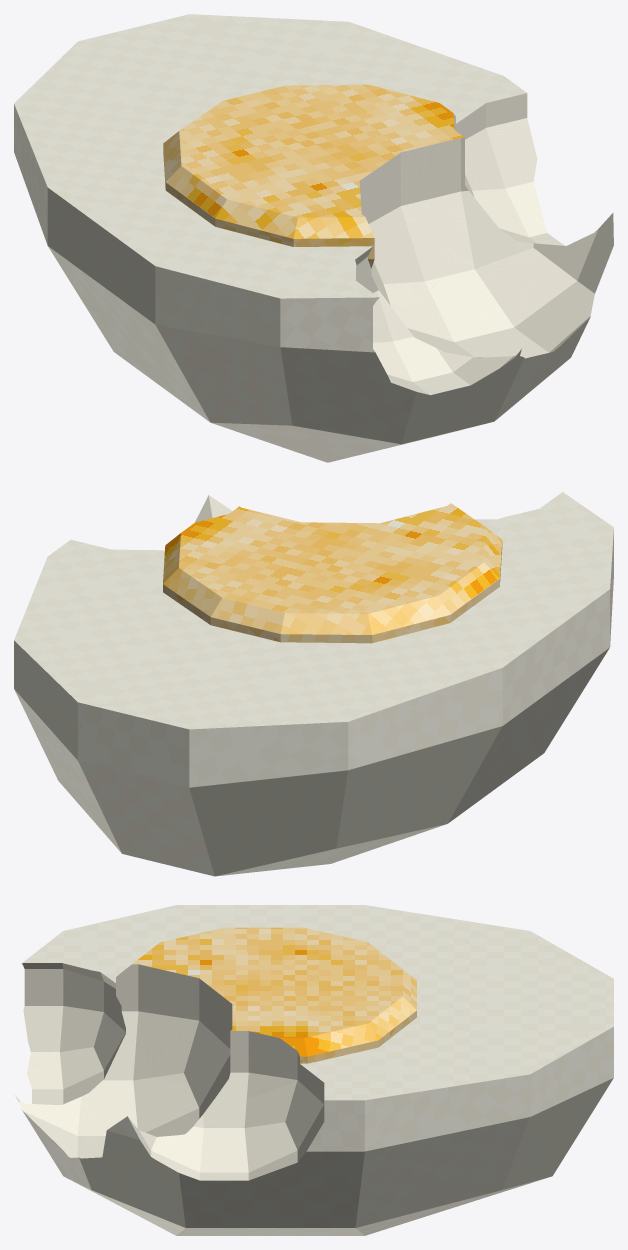
Rendered from egg_stage2.fbx.
3 views of the same model, one above another, from view 1: azimuth 30°, elevation 25°; view 2: azimuth 150°, elevation 25°; view 3: azimuth 270°, elevation 25° (orthographic). The views are drawn at different scales.
Parts seen in each view (by area): view 1: Egg, Yolk; view 2: Egg, Yolk; view 3: Egg, Yolk.
Part boxes in pixels (box(x1,y1,x2,y2)): Egg: box(14, 14, 613, 462); Yolk: box(163, 84, 478, 307); Egg: box(14, 491, 613, 876); Yolk: box(163, 503, 502, 643); Egg: box(14, 905, 613, 1235); Yolk: box(116, 927, 416, 1113).
Bounding box in the file's own units: 1225 × 1591 × 671.
